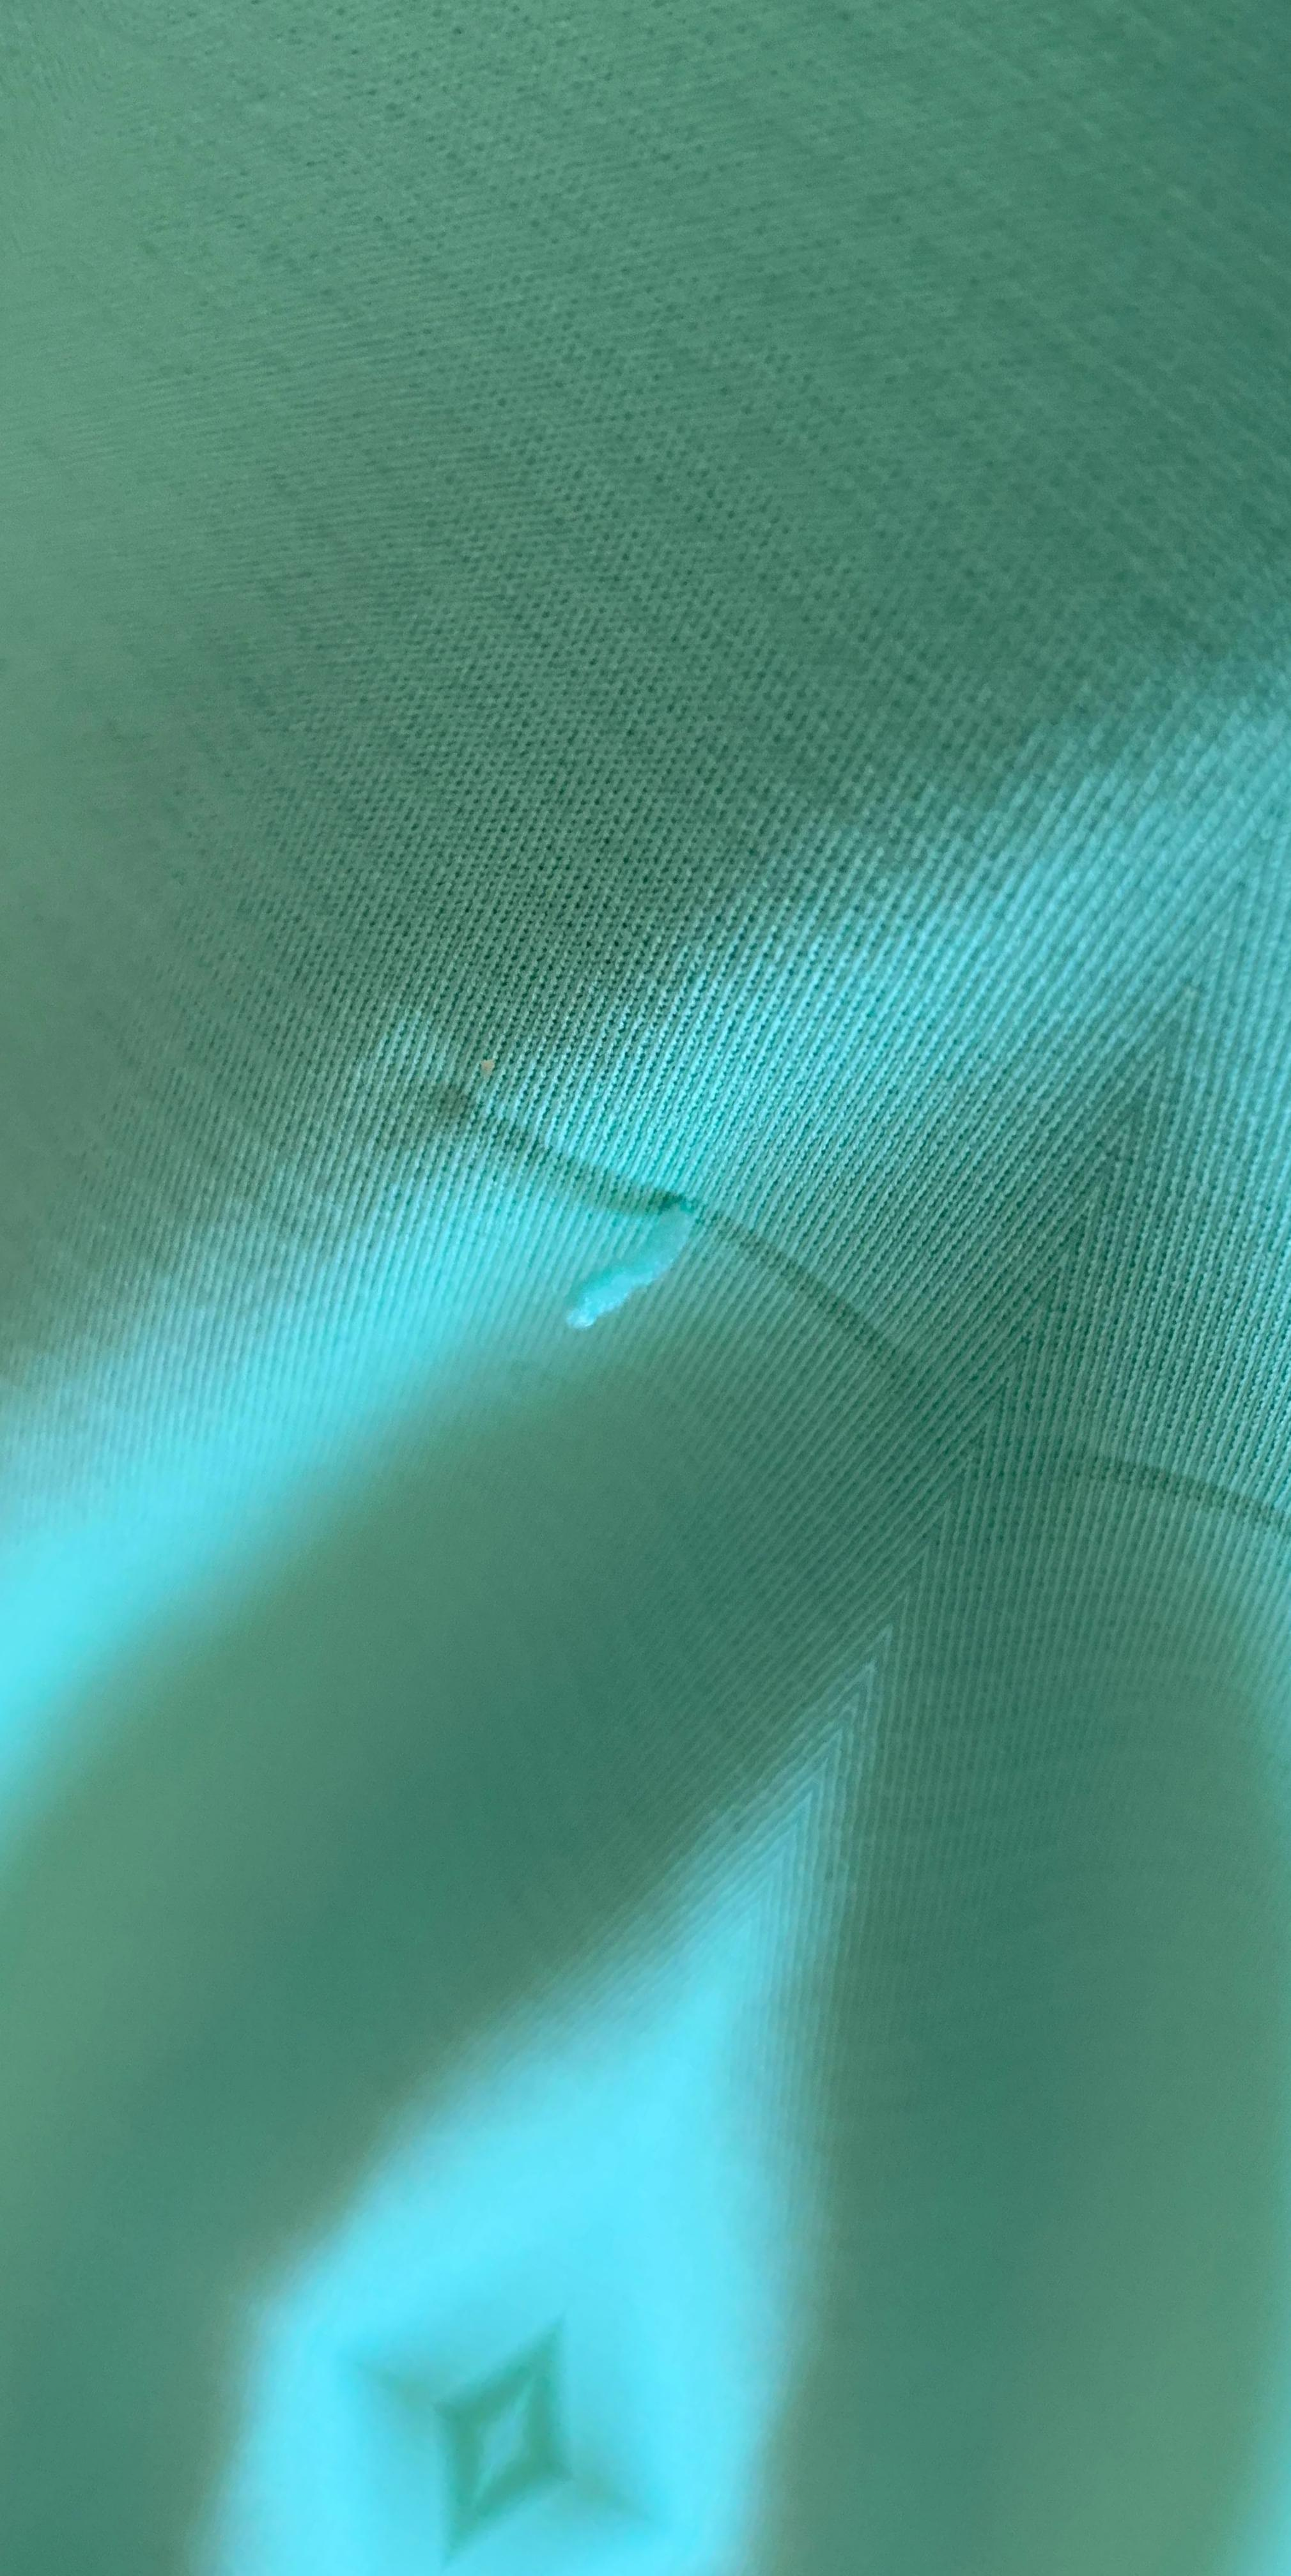snag: (514, 1090, 784, 1462)
